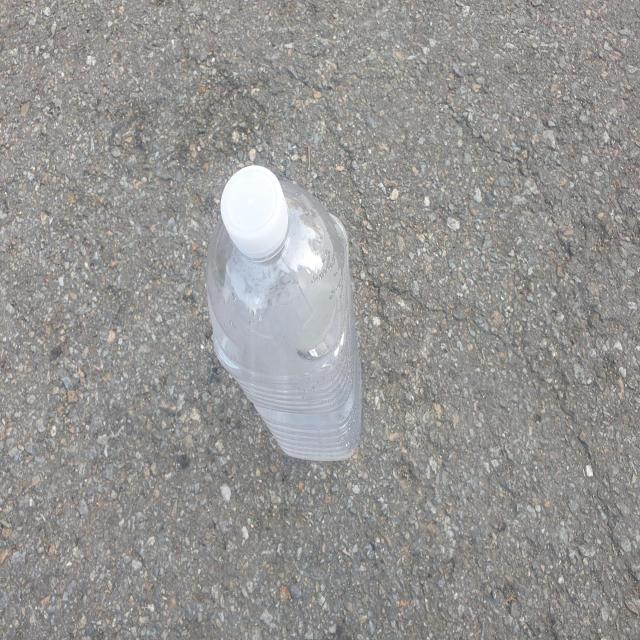plastic: (206, 164, 361, 461)
